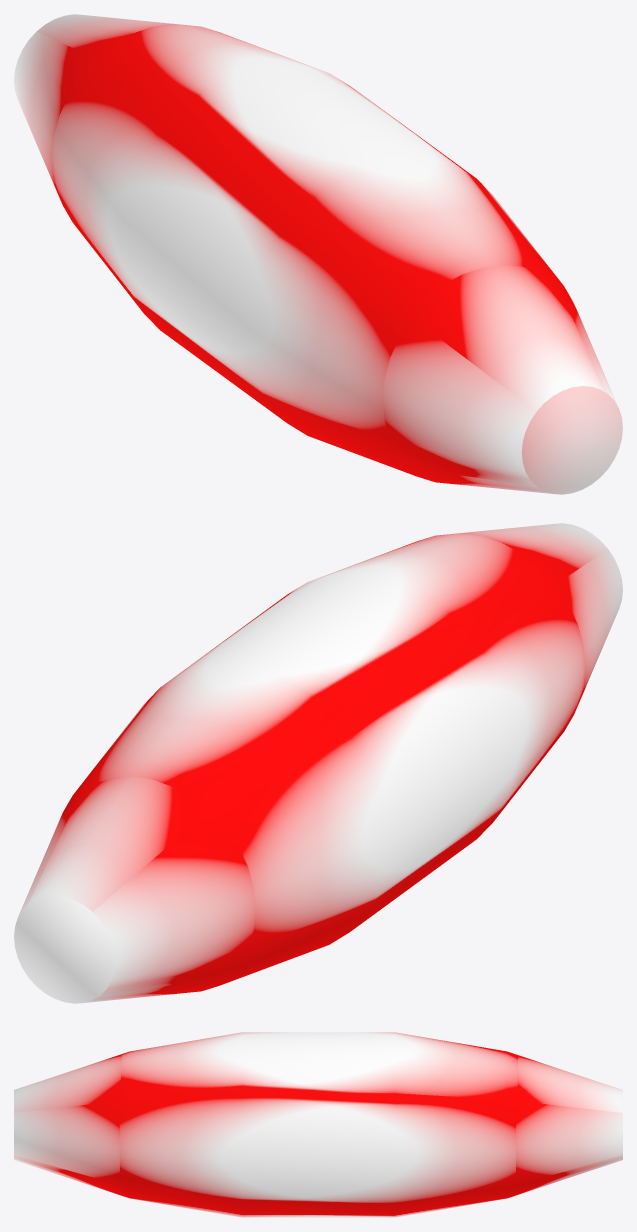
File: laser.gltf
The picture shows the model from 3 angles, top to bottom: view 1: azimuth 30°, elevation 25°; view 2: azimuth 150°, elevation 25°; view 3: azimuth 270°, elevation 25°; orthographic projection. The views are drawn at different scales.
Parts seen in each view (by area): view 1: Cylinder; view 2: Cylinder; view 3: Cylinder.
Part boxes in pixels (x1,y1,x2,y2): Cylinder: (14, 14, 622, 494); Cylinder: (14, 523, 622, 1003); Cylinder: (14, 1032, 622, 1217).
Bounding box in the file's own units: 0.2 × 0.2 × 0.6559.
Materials: 1 (1 with a texture image).
